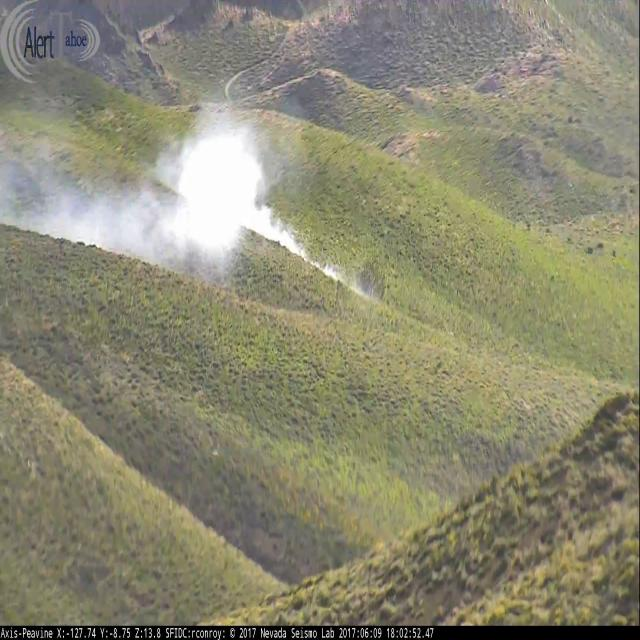smoke: (0, 82, 390, 301)
